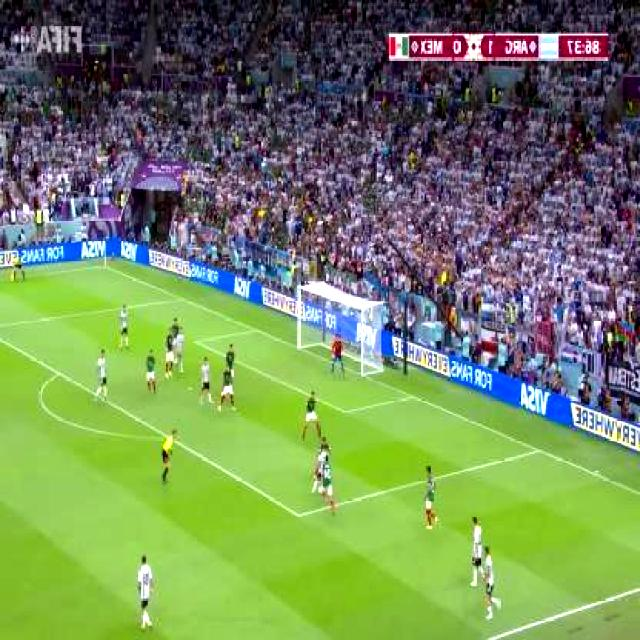bigarea_bottom_inner: (292, 506, 305, 526)
bigarea_bottom_outter: (530, 443, 544, 459)
bigarea_top_outter: (177, 294, 186, 306)
corner: (97, 263, 108, 269)
smallarea_bottom_inner: (338, 402, 352, 423)
smallarea_bottom_outter: (404, 389, 418, 403)
smallarea_top_inner: (188, 334, 203, 351)
smallarea_top_outter: (249, 323, 260, 337)
top_arc_area_intersection: (52, 363, 65, 383)
